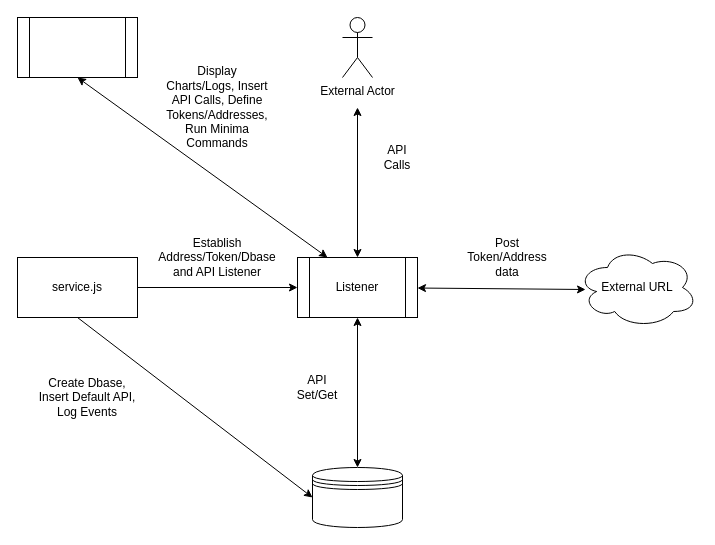
This 715x545 diagram has some shape labels left out. The box of each missing label's shape, as (x1, y1, x2, y2) in pixels:
Admin App': (16, 16, 138, 78)
H2/MySQL: (312, 466, 402, 528)
